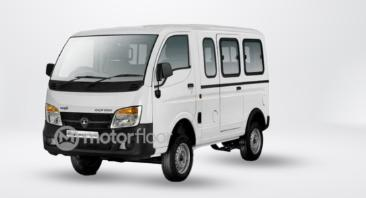van: (27, 18, 293, 187)
